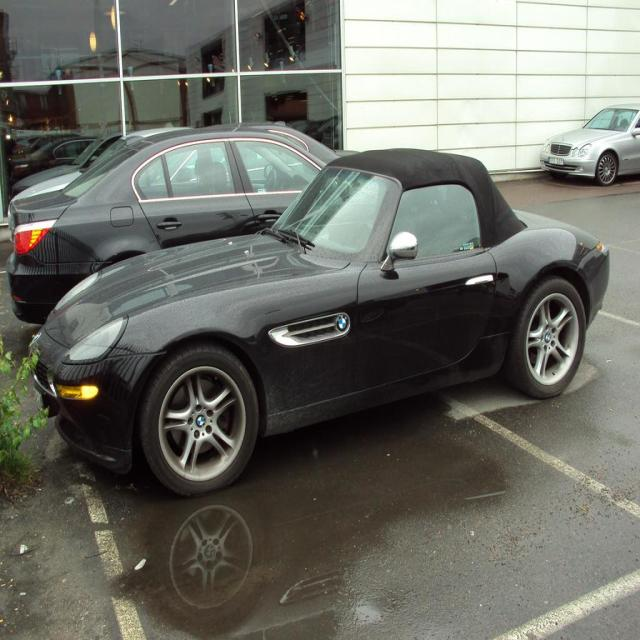car: (25, 146, 607, 492), (0, 129, 388, 318), (10, 104, 328, 248), (539, 105, 639, 184)
